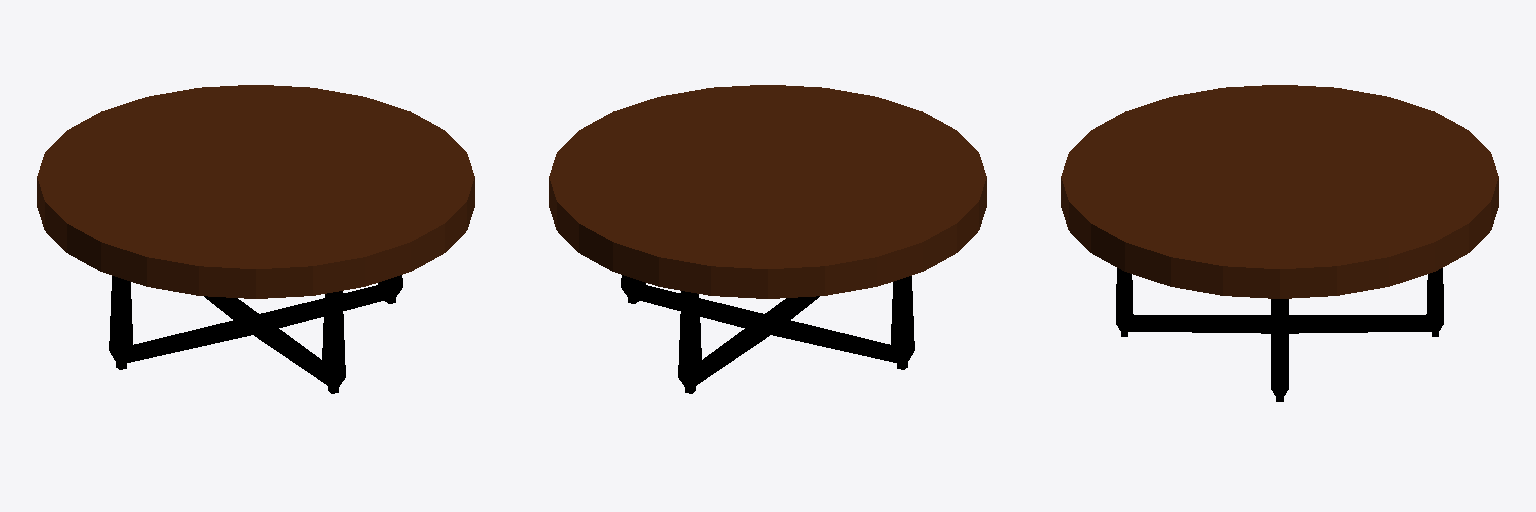
The model's file is TableMesh.obj.
The picture shows the model from 3 angles: view 1: azimuth 30°, elevation 25°; view 2: azimuth 150°, elevation 25°; view 3: azimuth 270°, elevation 25°; orthographic projection.
Parts seen in each view (by area): view 1: TableMesh; view 2: TableMesh; view 3: TableMesh.
Part boxes in pixels (bbox=[...]): TableMesh: bbox=[37, 85, 474, 393]; TableMesh: bbox=[549, 85, 986, 393]; TableMesh: bbox=[1061, 85, 1498, 401].
Bounding box in the file's own units: 5.63 × 2.25 × 5.63.